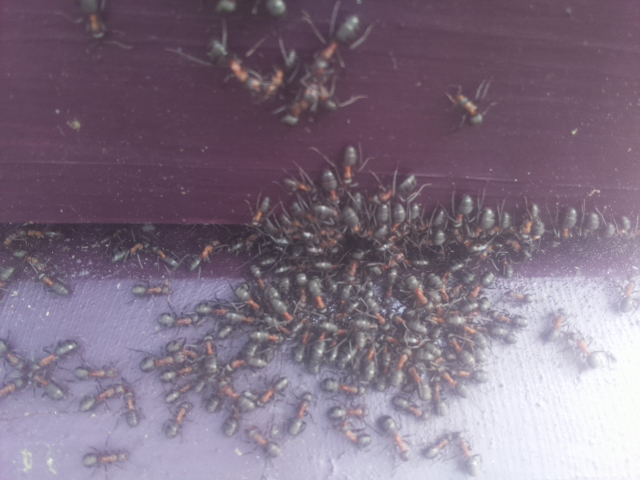ant: (302, 3, 374, 78), (4, 337, 72, 410), (199, 29, 263, 102), (241, 252, 297, 334), (318, 393, 381, 461), (275, 72, 339, 134), (5, 244, 72, 300), (322, 134, 369, 205), (373, 401, 417, 474), (439, 77, 491, 136), (132, 335, 201, 379), (236, 369, 295, 418), (447, 187, 497, 244), (70, 375, 136, 417), (237, 415, 290, 466), (26, 333, 87, 376), (225, 328, 277, 374), (365, 171, 422, 211), (181, 233, 228, 278), (563, 331, 615, 371), (284, 386, 319, 444), (191, 299, 260, 328), (73, 0, 113, 49), (74, 444, 138, 473), (111, 381, 146, 432), (162, 396, 195, 445), (453, 434, 485, 480), (302, 269, 332, 318), (216, 402, 248, 442), (289, 321, 318, 364), (407, 360, 434, 406), (403, 268, 432, 310), (392, 392, 432, 422), (232, 281, 264, 318), (248, 186, 274, 230), (437, 369, 472, 401), (520, 200, 546, 243), (108, 238, 147, 266), (125, 278, 174, 300), (306, 332, 330, 374), (318, 376, 363, 398), (200, 332, 220, 380), (618, 271, 638, 316), (69, 366, 120, 383), (545, 304, 566, 345), (278, 176, 321, 195), (557, 204, 578, 238), (424, 437, 450, 460)
